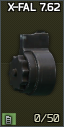SA-58%5FAL 7.62x51 X-FAL 50-round drum magazine: (0, 0, 64, 127)
